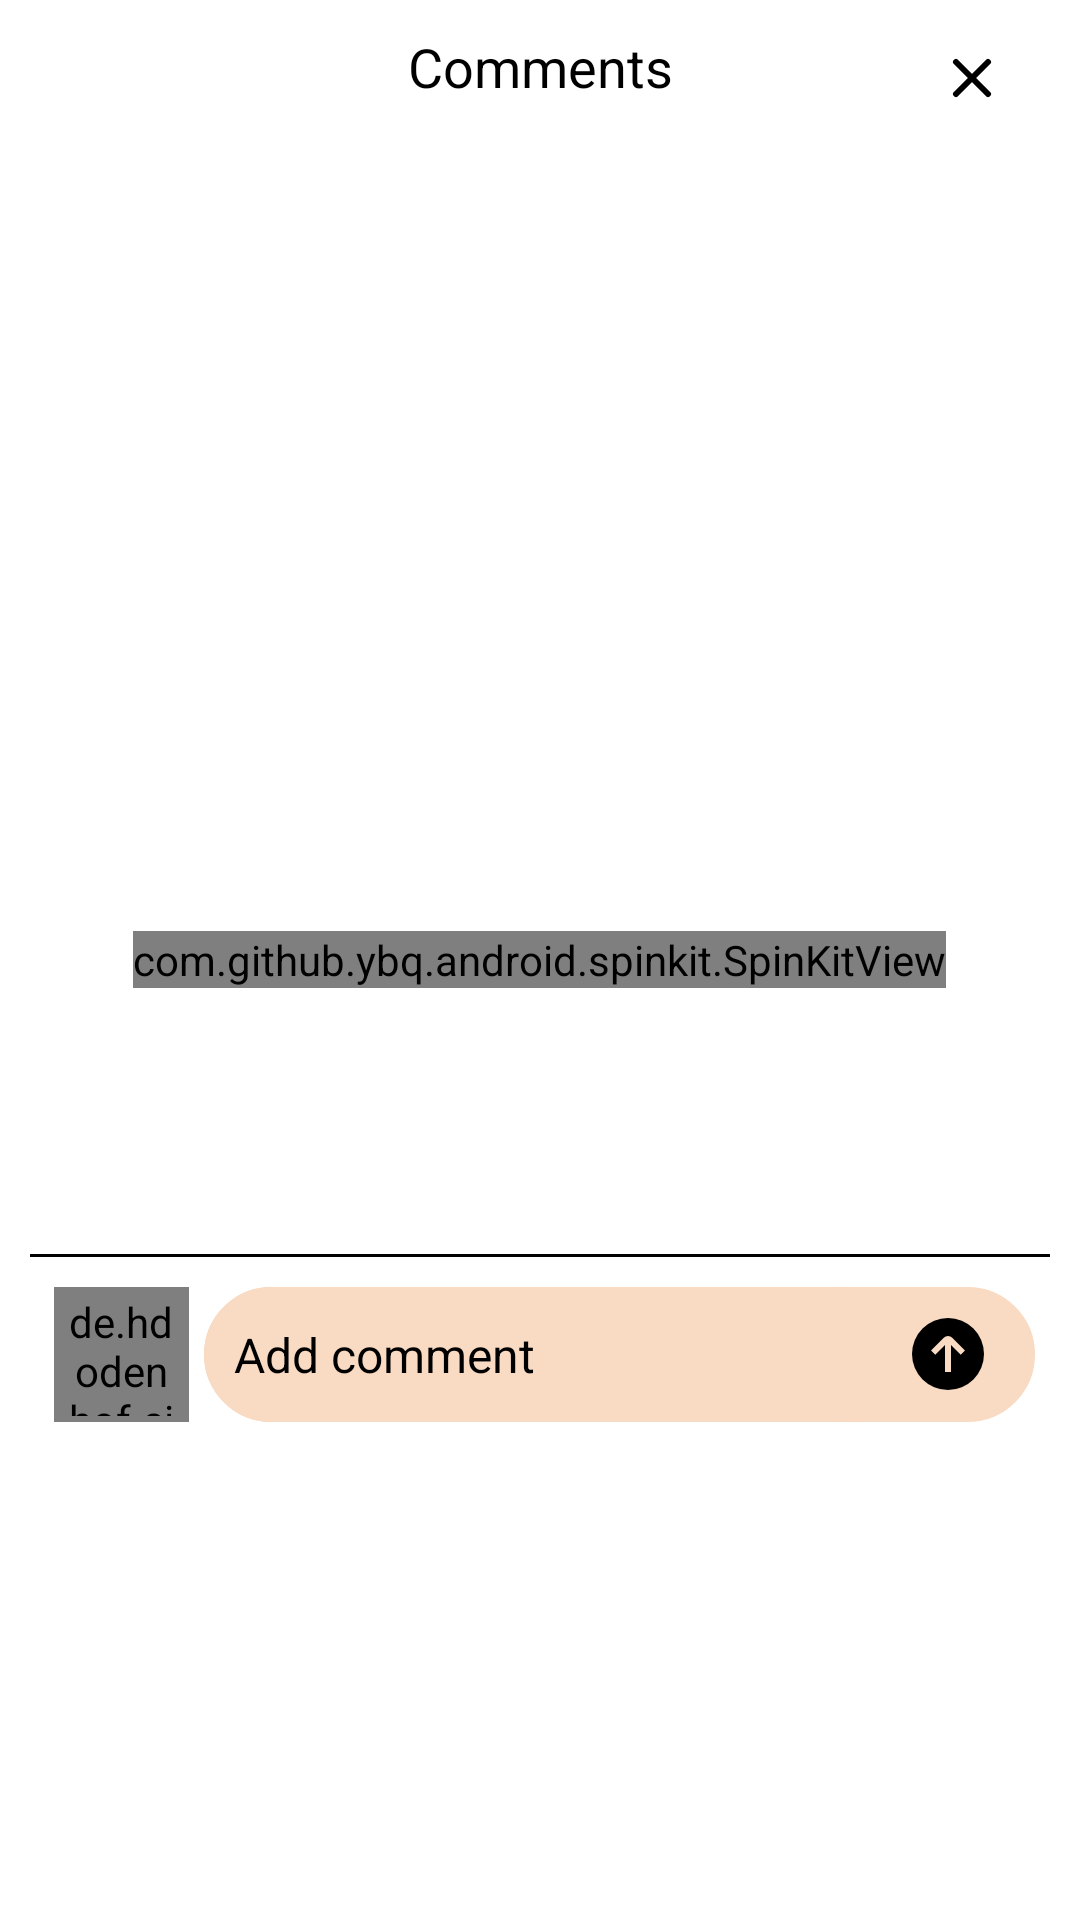

Icon click points for this 1080 x 1920 phone screenshot, format [x,y]:
arrow circle up: [948,1354]
cross: [972,78]
